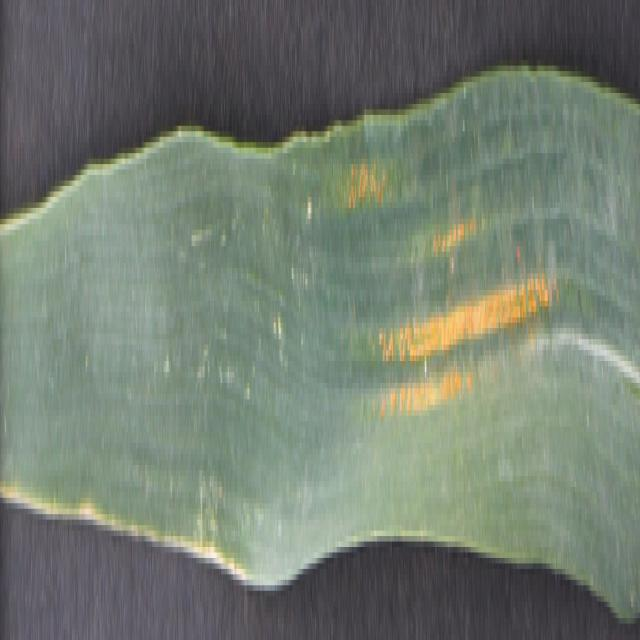leaf rust: (334, 120, 567, 470)
